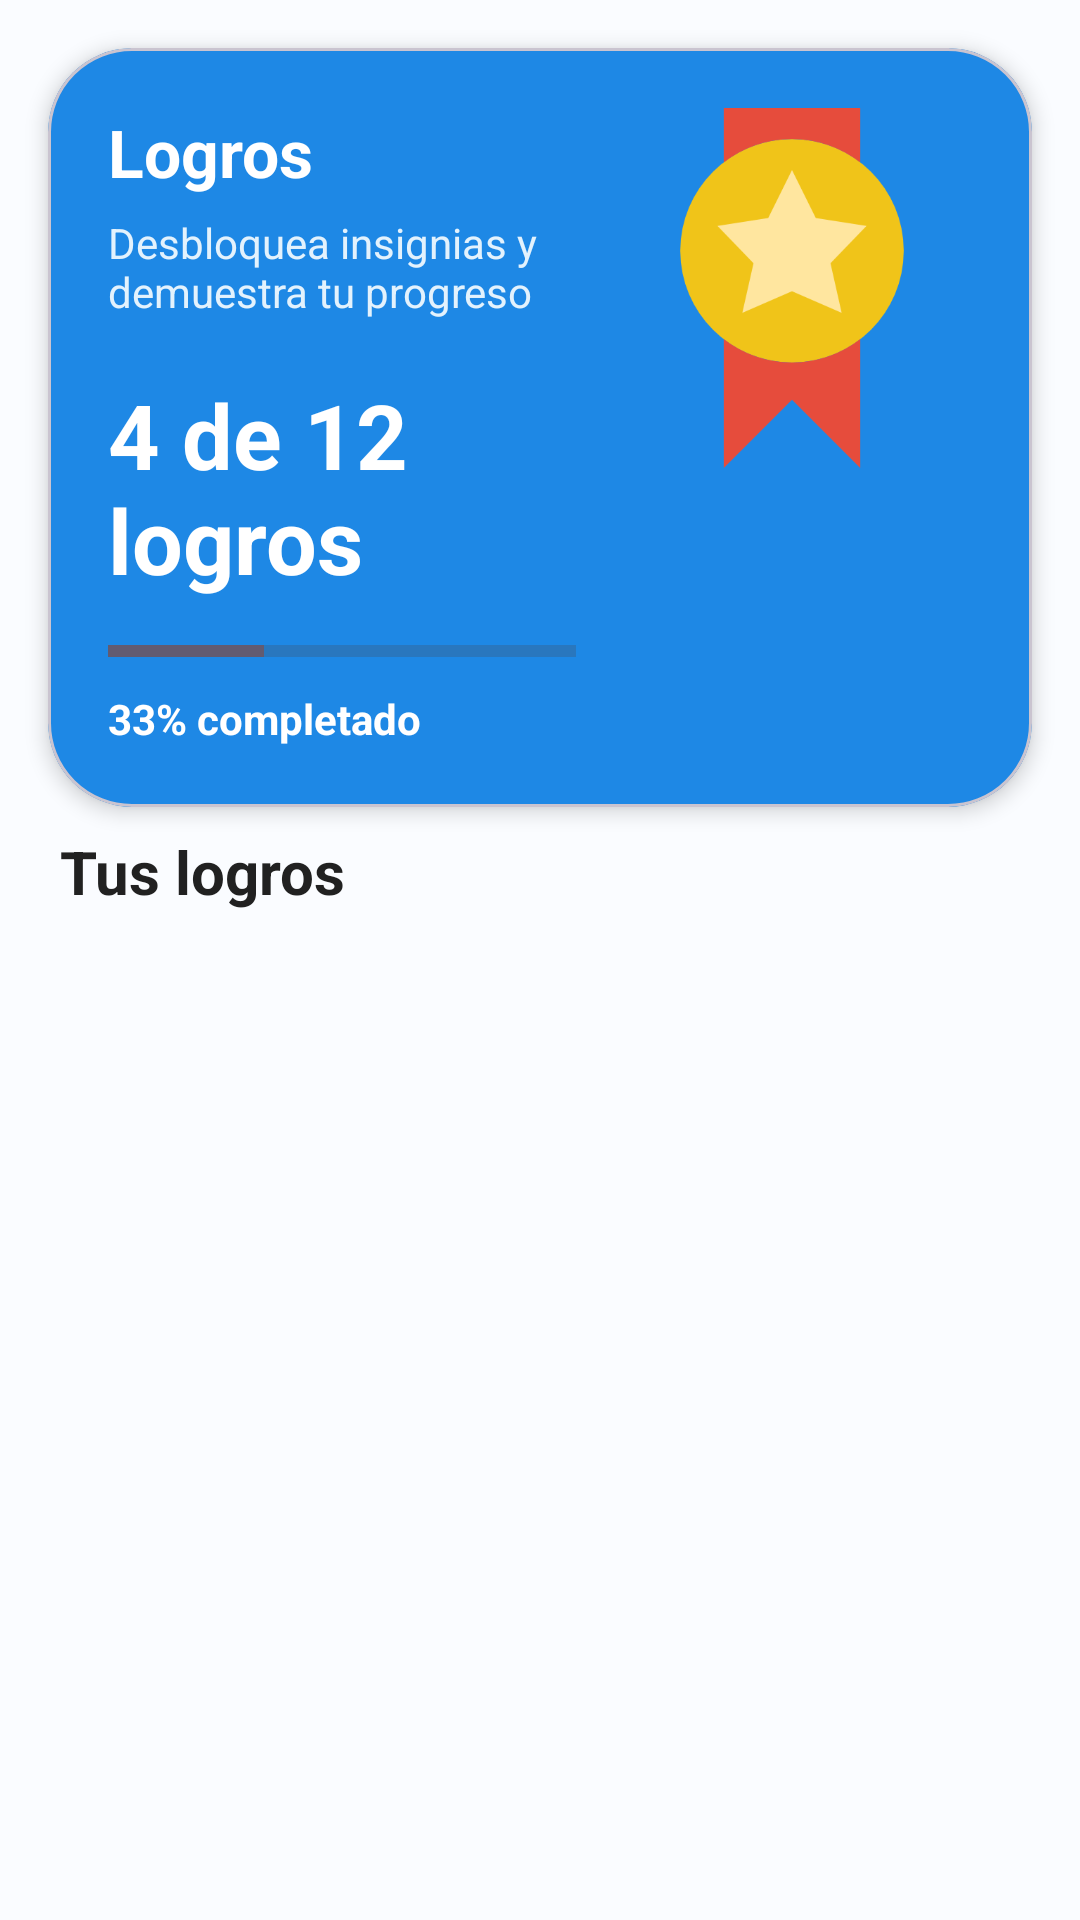

Locate icon controls on the screen. Image size 1080px x 1920px, boxes as bbox=(x1, y1, x2, y2).
medallas: bbox=(680, 108, 904, 468)
